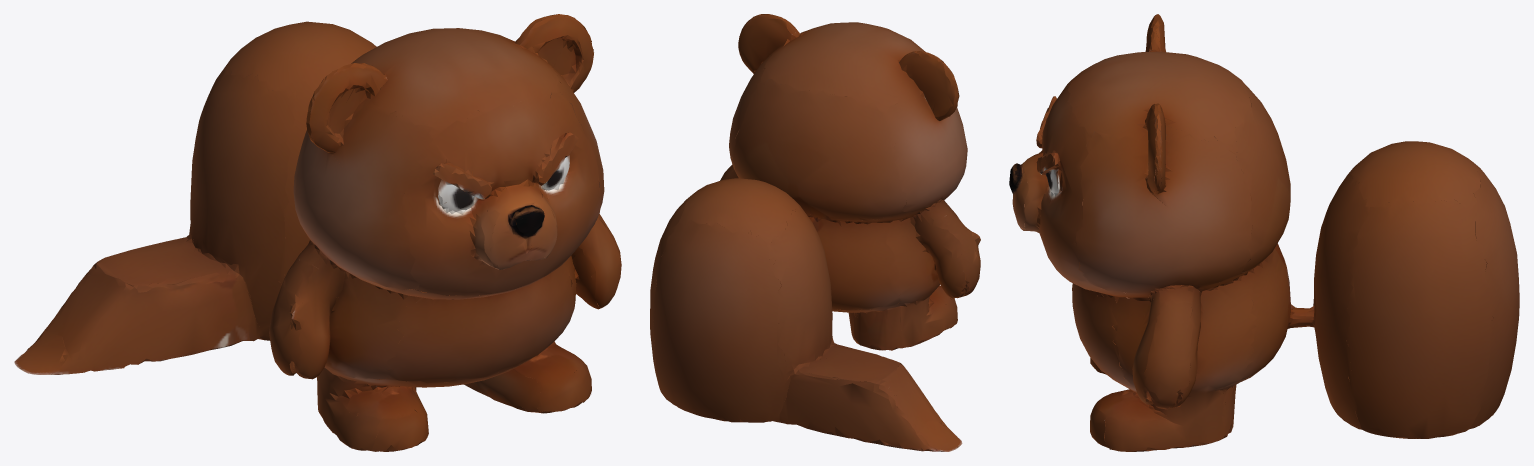
The model's file is voxel_bear.glb.
3 views of the same model, side by side, from view 1: azimuth 30°, elevation 25°; view 2: azimuth 150°, elevation 25°; view 3: azimuth 270°, elevation 25° (orthographic). The views are drawn at different scales.
Parts seen in each view (by area): view 1: BeastBear; view 2: BeastBear; view 3: BeastBear.
Part boxes in pixels (box(x1,y1,x2,y2)): BeastBear: box(14, 14, 621, 451); BeastBear: box(650, 14, 980, 451); BeastBear: box(1009, 14, 1519, 451).
Size of the model in its own units: 1.51 by 1.15 by 1.59.
Materials: 1 (1 with a texture image).
